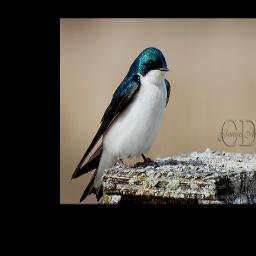Swallow: (70, 46, 171, 203)
